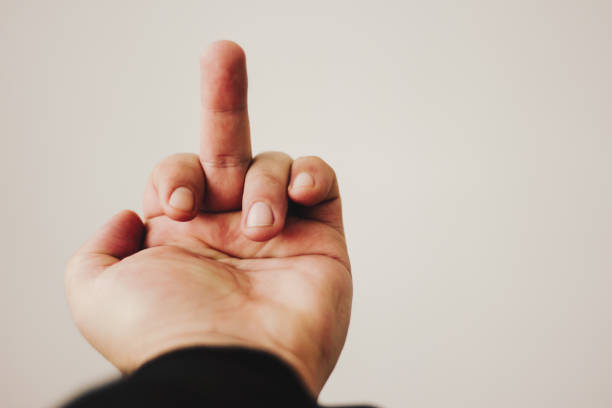insulting_gesture: (63, 40, 354, 369)
